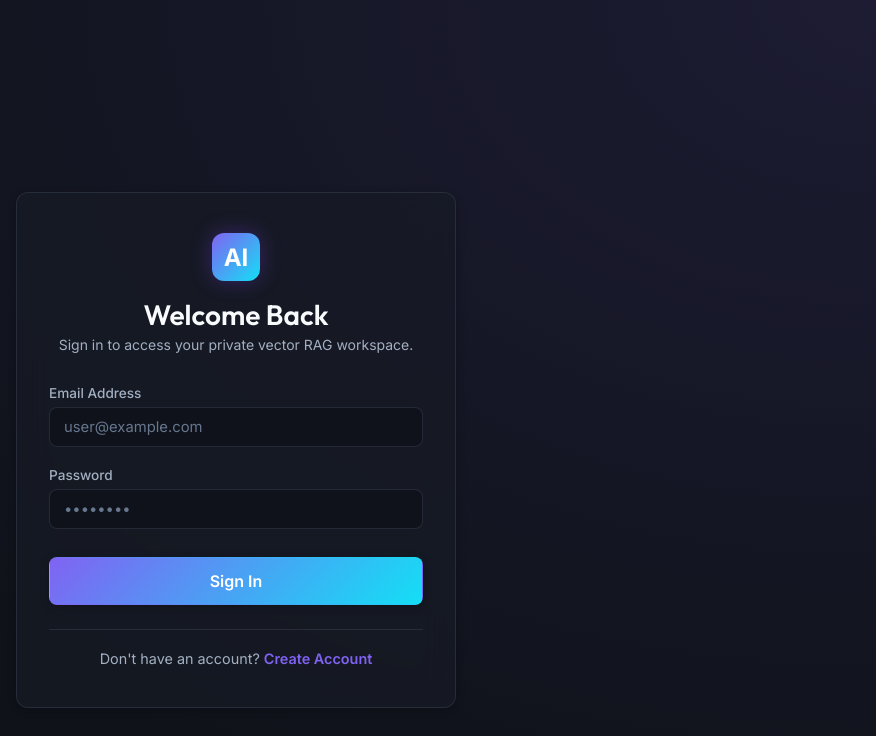
Test: Authentication Pages & Component Tests › LoginPage Component › should validate email format
This screenshot has width=876, height=736.
In the field labelled "Email Address": (236, 427) [49,407,423,447], type "invalid-email"
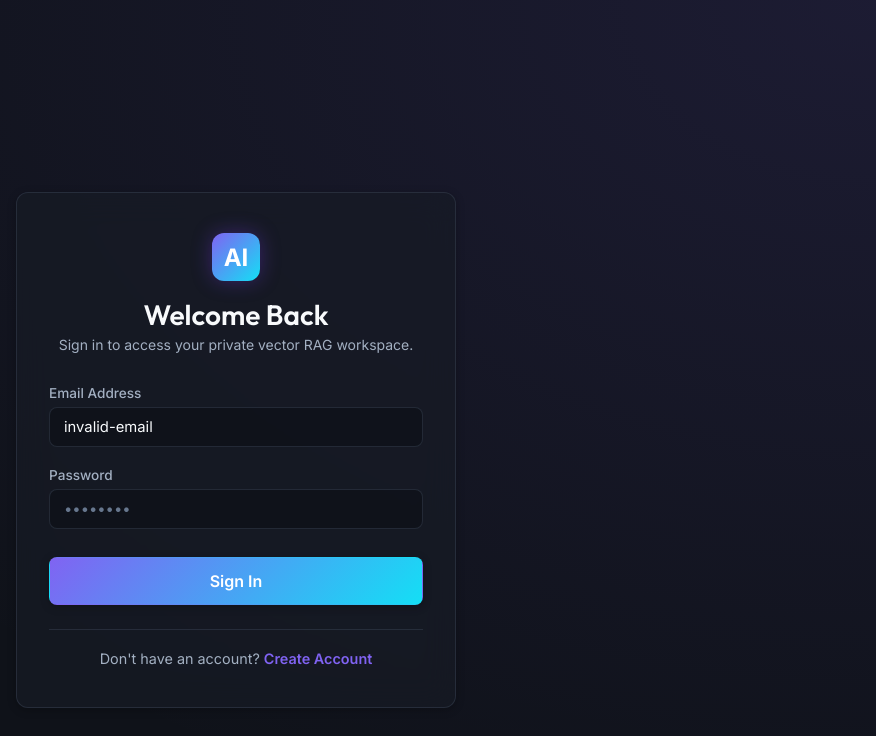
In the password field labelled "Password": (236, 509) [49,489,423,529], type "password123"
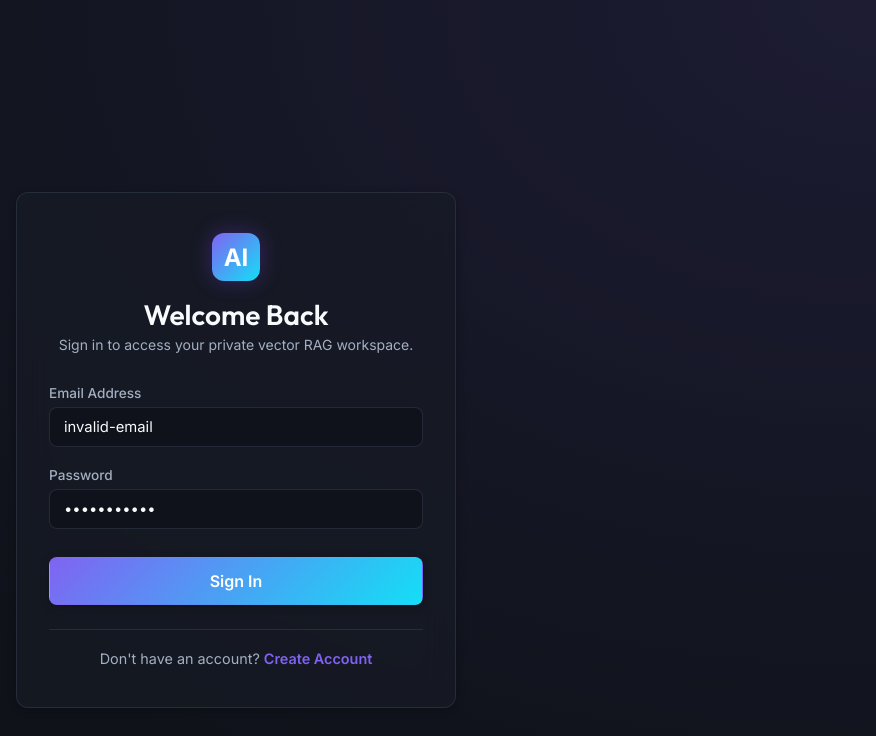
Click the button "Sign In": (236, 581) [49,557,423,605]
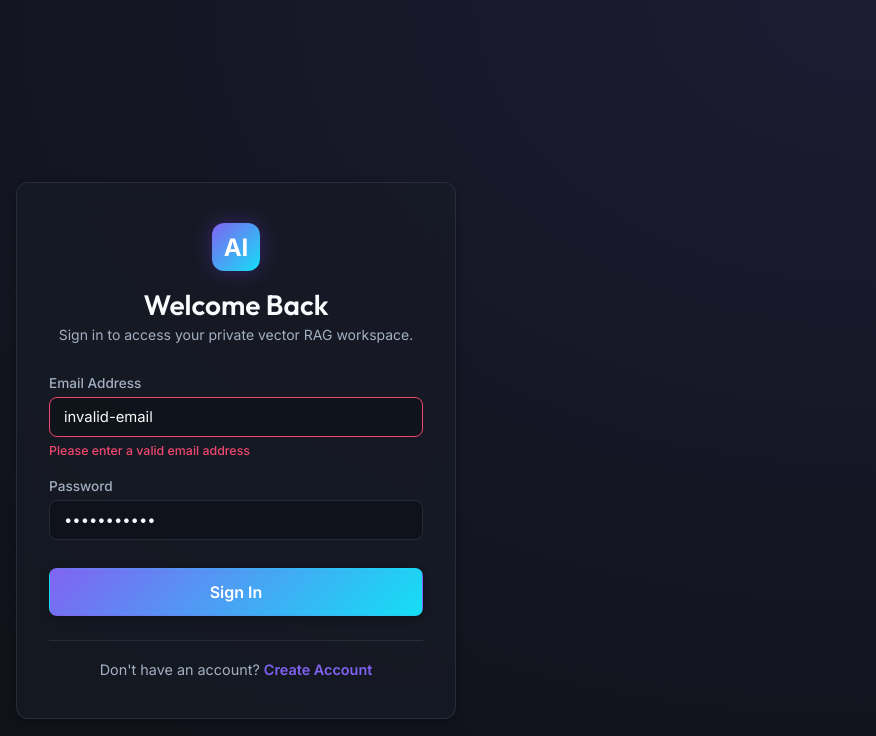
Now the text "Please enter a valid email address" is shown, box [49,442,250,458]
